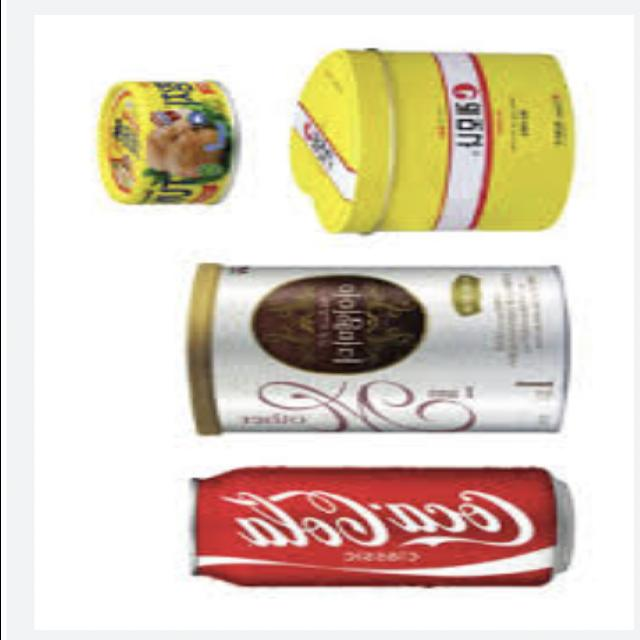can: (147, 254, 579, 449), (278, 36, 588, 246), (146, 461, 591, 606), (89, 75, 241, 212)
